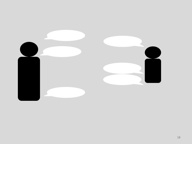left_speech: (42, 25, 89, 43), (42, 84, 87, 100), (39, 45, 82, 59)
right_speech: (100, 31, 145, 49), (102, 59, 143, 74), (101, 73, 144, 87)
